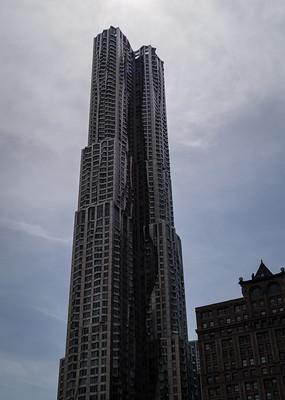building: (57, 23, 192, 400)
